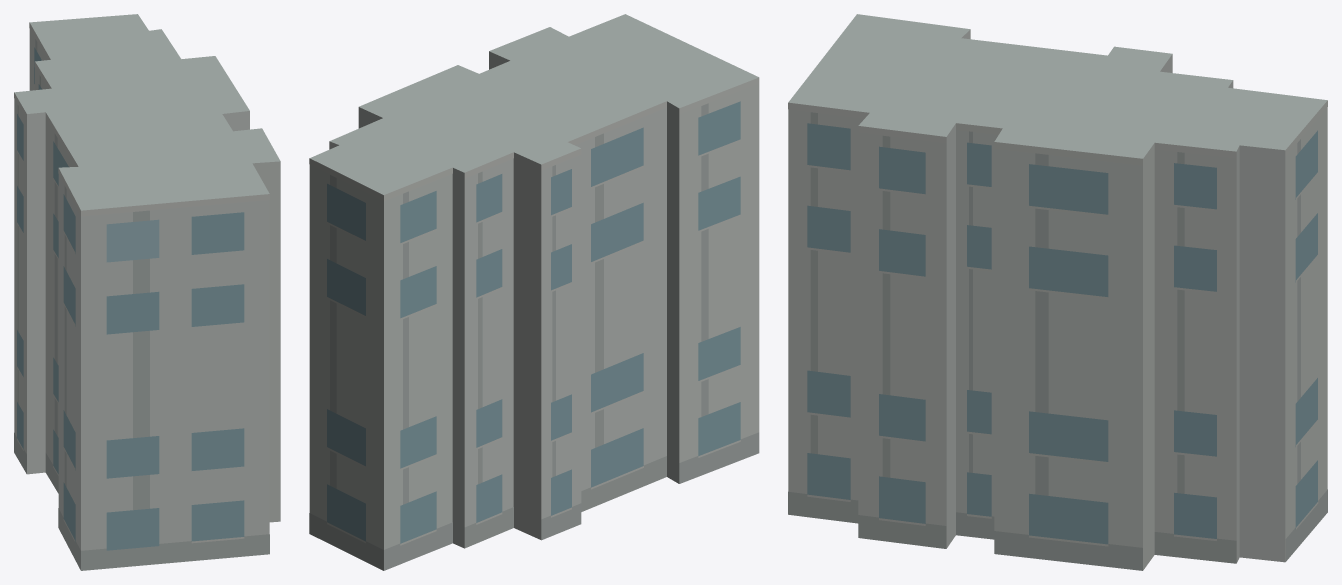
File: survey-upis-32831325.glb
3 renders of one model, left to right at view 1: azimuth 30°, elevation 25°; view 2: azimuth 150°, elevation 25°; view 3: azimuth 270°, elevation 25°, orthographic. The views are drawn at different scales.
Parts seen in each view (by area): view 1: survey-upis-32831325.tmp; view 2: survey-upis-32831325.tmp; view 3: survey-upis-32831325.tmp.
Boxes of the visible parts, bbox=[...] form: survey-upis-32831325.tmp: bbox=[14, 14, 280, 570]; survey-upis-32831325.tmp: bbox=[309, 14, 759, 570]; survey-upis-32831325.tmp: bbox=[788, 14, 1327, 570].
Size of the model in its own units: 11.11 by 14.74 by 17.5.
